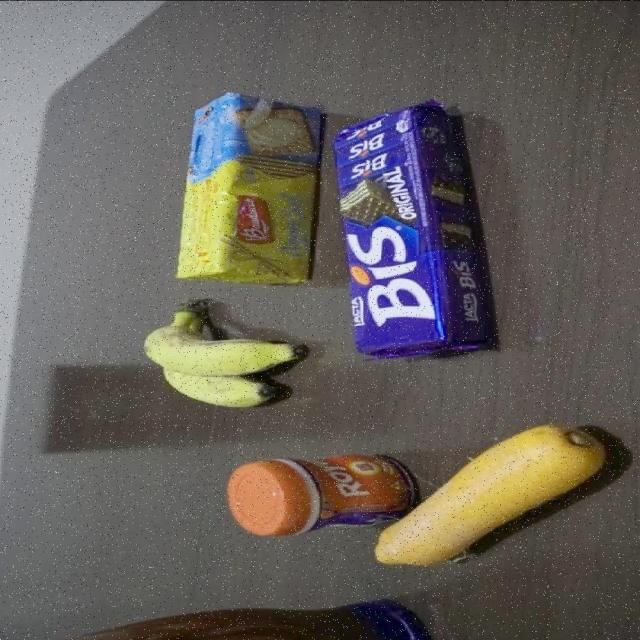Banana: (143, 298, 312, 408)
Carrot: (373, 422, 612, 568)
Cracker: (175, 91, 327, 286)
Ketchup: (0, 596, 444, 640)
Yeast: (225, 452, 413, 537)
